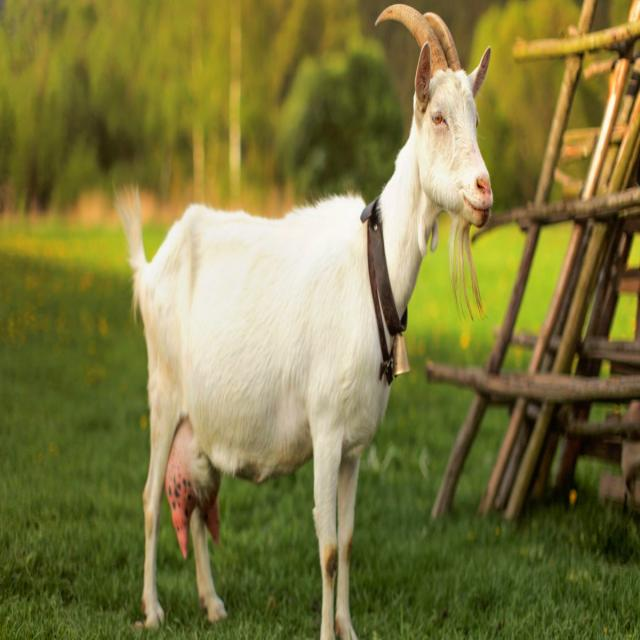goat: (117, 5, 493, 639)
